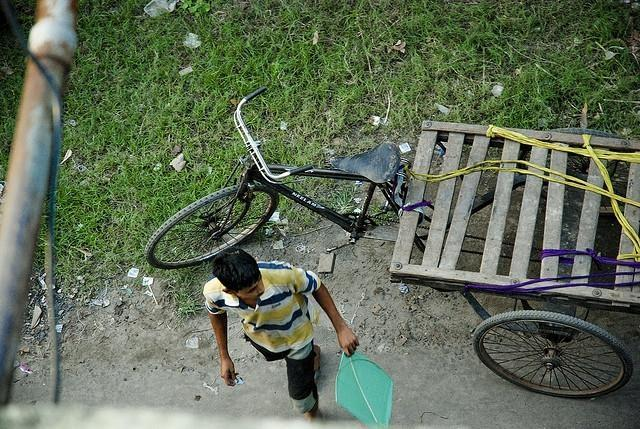bicycle: (145, 83, 640, 397)
